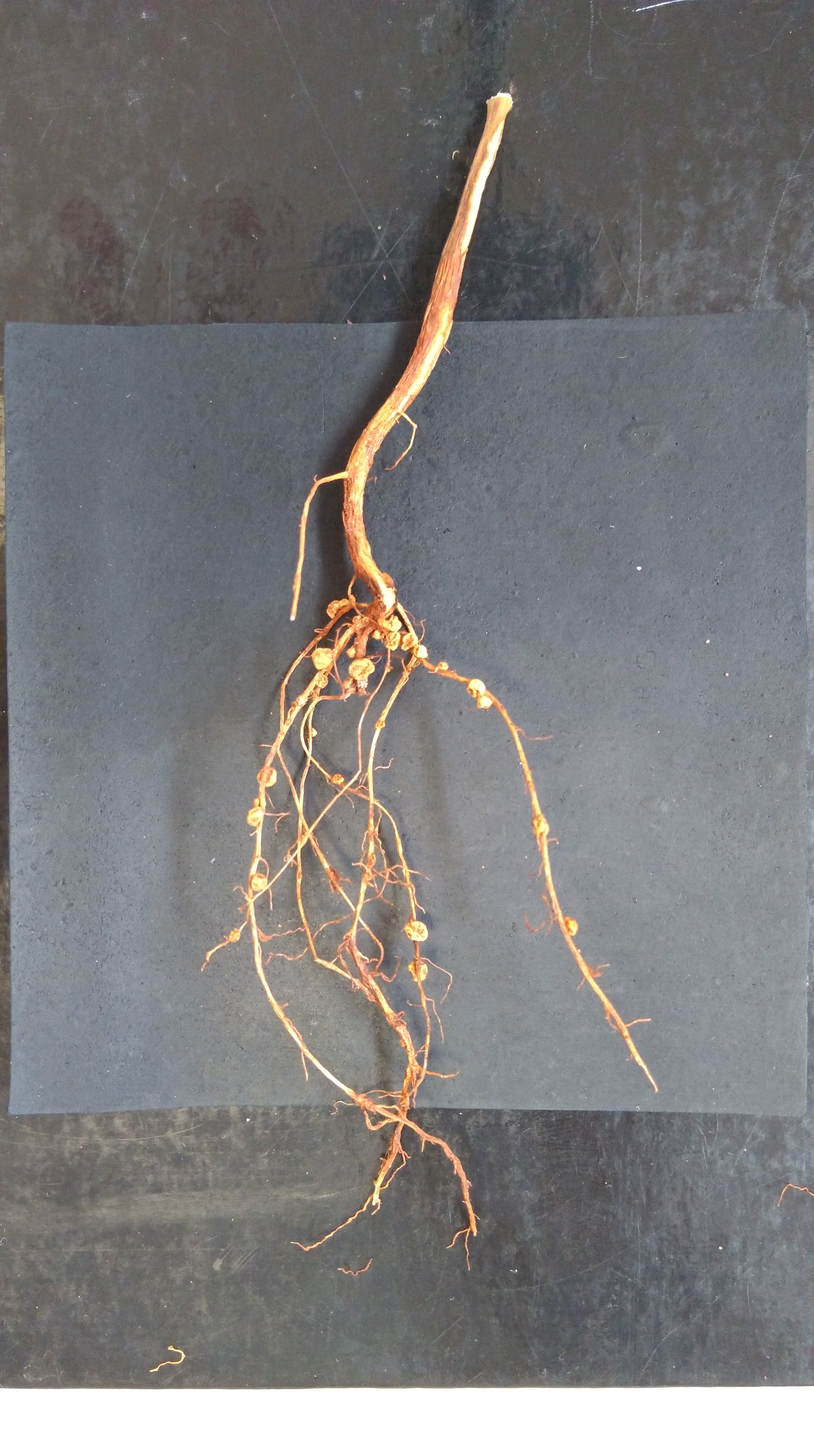nodule: (347, 657, 376, 681), (403, 919, 429, 944), (528, 812, 552, 839), (406, 959, 430, 983), (310, 646, 333, 671), (255, 766, 278, 789), (325, 598, 350, 619), (376, 613, 403, 632), (464, 677, 487, 699), (249, 871, 269, 894), (562, 915, 581, 937), (383, 630, 401, 652), (246, 806, 264, 828), (400, 632, 418, 653), (410, 644, 429, 660), (474, 695, 494, 710), (227, 927, 243, 944), (314, 673, 329, 690), (295, 695, 309, 707), (331, 773, 345, 785), (341, 677, 353, 690), (436, 660, 450, 670), (345, 646, 356, 658), (371, 628, 381, 641), (374, 720, 386, 730), (251, 797, 260, 808), (312, 727, 318, 738)
